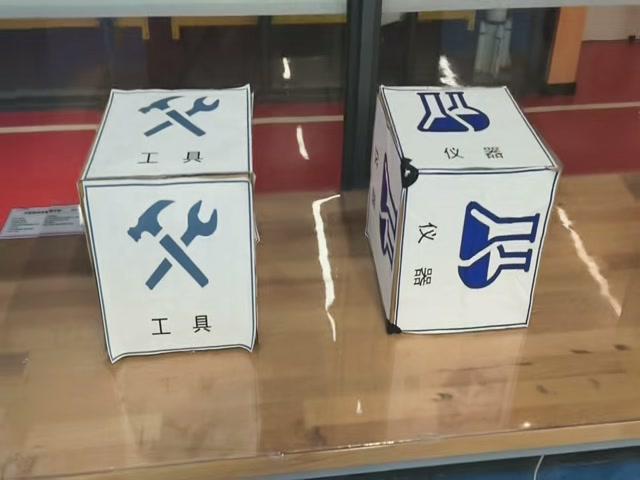Cube_ins: (379, 87, 559, 170)
Cube_tool: (79, 86, 251, 186)
